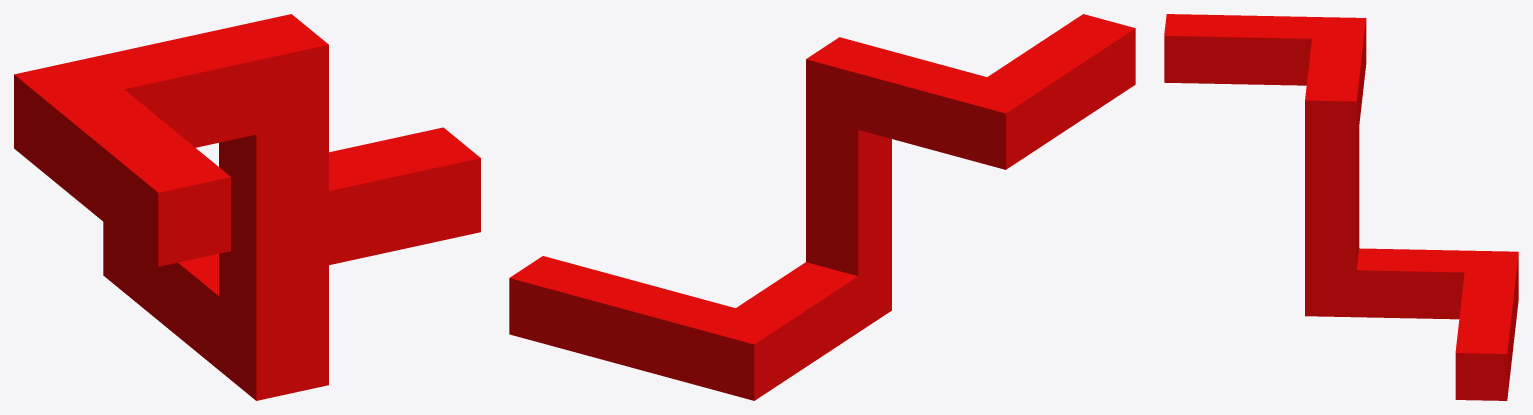
The model's file is Twistycooler_robot_red.dae.
The picture shows the model from 3 angles, left to right: view 1: azimuth 30°, elevation 25°; view 2: azimuth 150°, elevation 25°; view 3: azimuth 270°, elevation 25°; orthographic projection. The views are drawn at different scales.
Parts seen in each view (by area): view 1: skp8263, group_0 (×2); view 2: skp8263, group_0; view 3: skp8263, group_0 (×2).
Part boxes in pixels (<box>): skp8263: <box>103,14,480,400</box>; group_0 (×2): <box>14,30,256,266</box>; skp8263: <box>509,37,891,400</box>; group_0: <box>858,14,1135,169</box>; skp8263: <box>1305,78,1518,400</box>; group_0 (×2): <box>1164,14,1366,123</box>.
Bounding box in the file's own units: 91.92 × 80.45 × 54.
